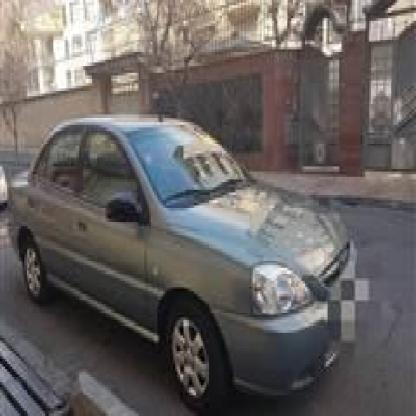Car: (0, 111, 348, 408)
